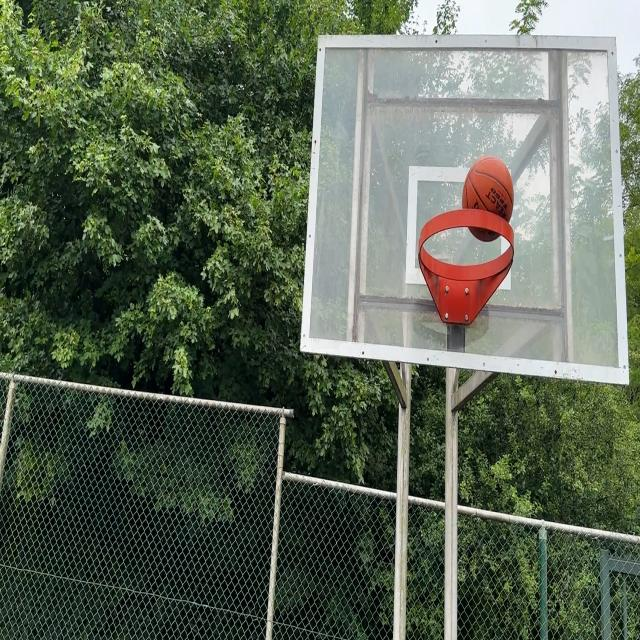rebound_hit: (462, 158, 514, 244)
